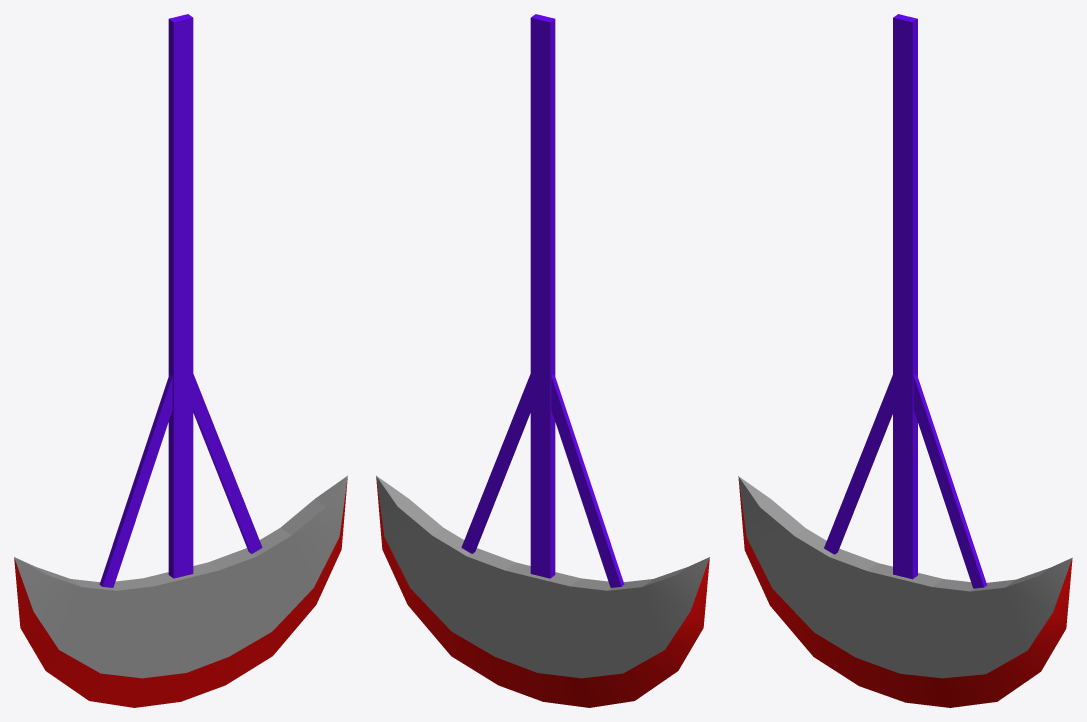
Rendered from swinging_axe.FBX.
The picture shows the model from 3 angles, left to right: view 1: azimuth 30°, elevation 25°; view 2: azimuth 150°, elevation 25°; view 3: azimuth 330°, elevation 25°; orthographic projection.
Parts seen in each view (by area): view 1: Line001; view 2: Line001; view 3: Line001.
Boxes of the visible parts, x1,y1,x2,y2 form: Line001: (14, 14, 347, 707); Line001: (376, 14, 709, 707); Line001: (738, 14, 1072, 707).
Size of the model in its own units: 90.96 by 178 by 5.22.
